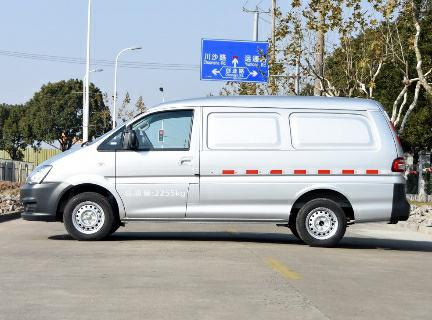东风风行-菱智: (15, 93, 412, 250)
